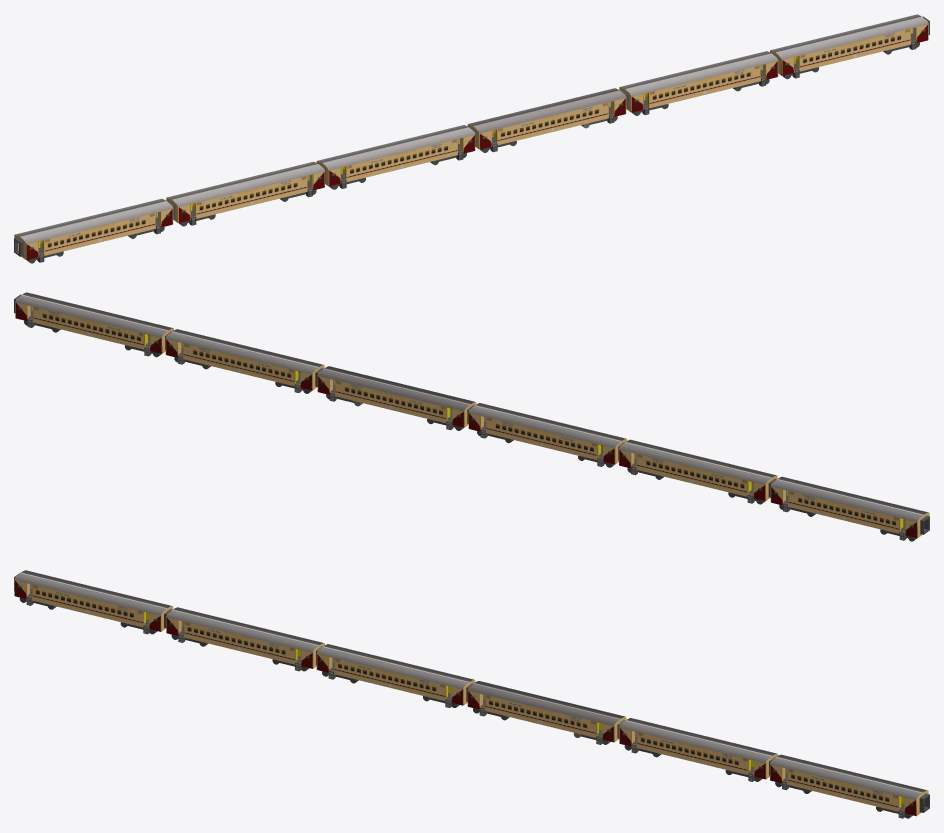
File: utkrisht_coach.glb
The picture shows the model from 3 angles, top to bottom: view 1: azimuth 30°, elevation 25°; view 2: azimuth 150°, elevation 25°; view 3: azimuth 330°, elevation 25°; orthographic projection.
Parts seen in each view (by area): view 1: Object_6, Object_14, Object_4, Object_2, Object_15; view 2: Object_11, Object_14, Object_4, Object_2, Object_15; view 3: Object_6, Object_14, Object_4, Object_2, Object_15.
Boxes of the visible parts, box(x1,y1,x2,y2) form: Object_6: box(26, 24, 928, 260); Object_14: box(15, 14, 928, 243); Object_4: box(14, 16, 929, 263); Object_2: box(469, 88, 625, 132); Object_15: box(14, 20, 928, 259); Object_11: box(15, 302, 917, 538); Object_14: box(15, 292, 928, 521); Object_4: box(14, 294, 929, 541); Object_2: box(318, 366, 474, 410); Object_15: box(15, 298, 929, 537); Object_6: box(14, 580, 916, 816); Object_14: box(14, 570, 927, 799); Object_4: box(14, 572, 929, 818); Object_2: box(468, 681, 624, 725); Object_15: box(14, 576, 928, 815).
Bounding box in the file's own units: 205 × 5.32 × 5.24.
12 materials, 2 textured.
